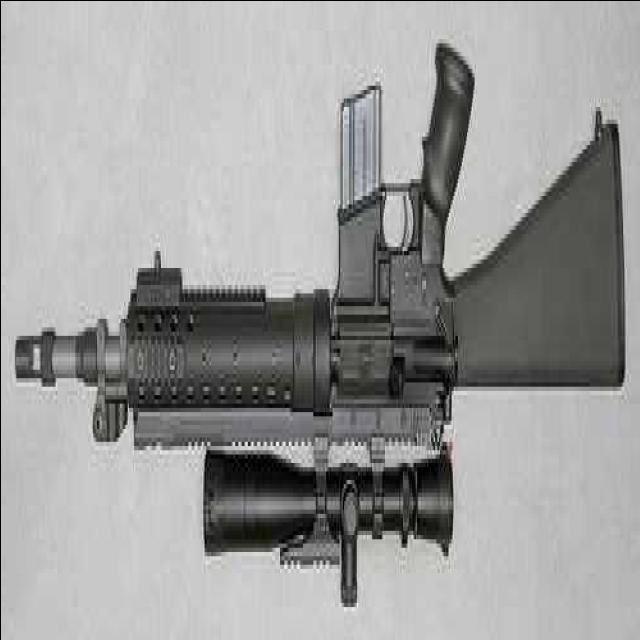heavyweapon: (8, 60, 630, 586)
